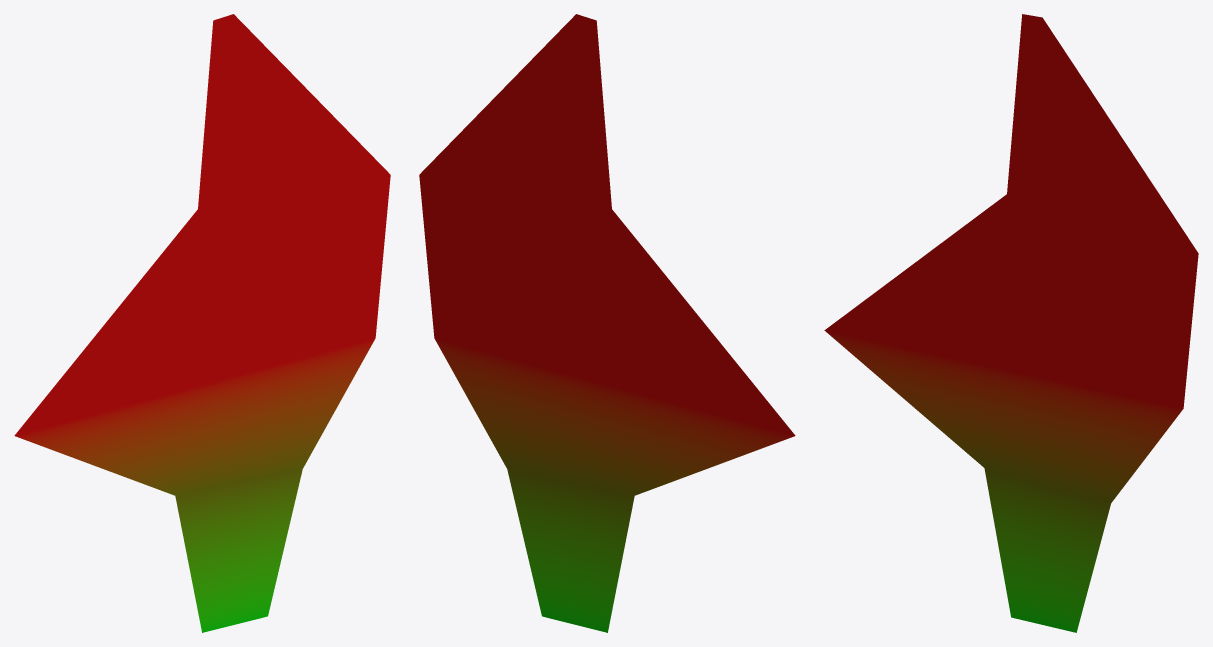
File: Myricaria_LOD3_Var3_tfbldaor.fbx
The picture shows the model from 3 angles, left to right: view 1: azimuth 30°, elevation 25°; view 2: azimuth 150°, elevation 25°; view 3: azimuth 330°, elevation 25°; orthographic projection.
Parts seen in each view (by area): view 1: _41bb_Var3_LOD3; view 2: _41bb_Var3_LOD3; view 3: _41bb_Var3_LOD3.
Part boxes in pixels (x1,y1,x2,y2): _41bb_Var3_LOD3: (14,14,390,632); _41bb_Var3_LOD3: (419,14,795,632); _41bb_Var3_LOD3: (824,14,1198,632).
Size of the model in its own units: 49.3 by 76.49 by 9.54e-06.
